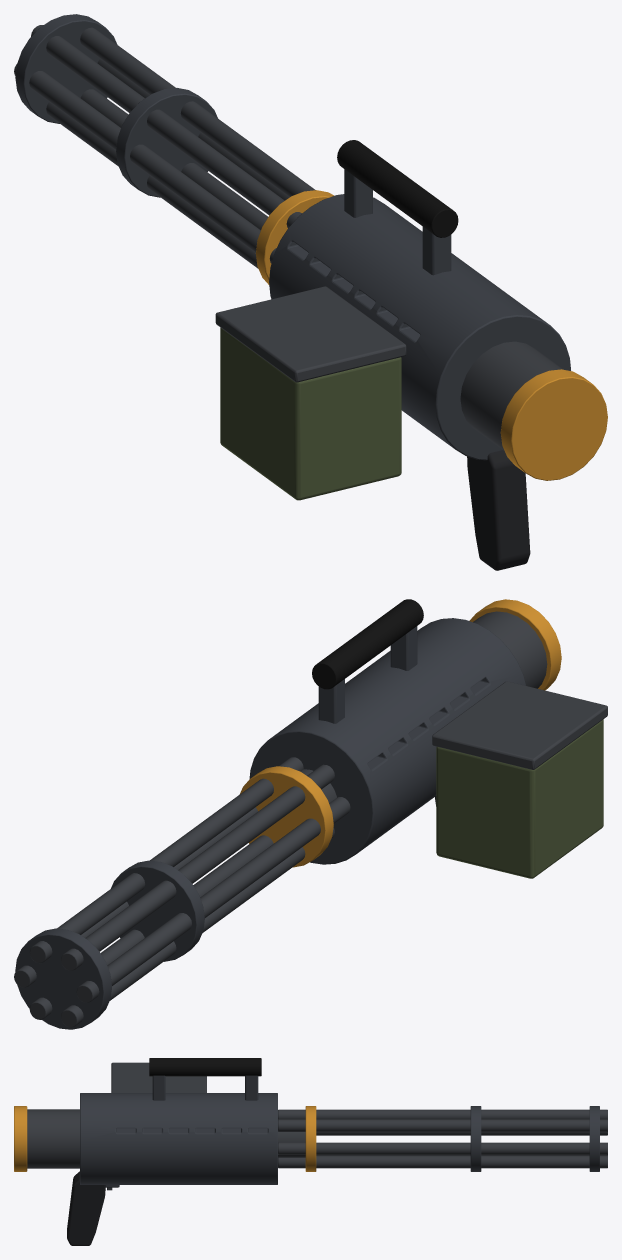
Rendered from buzzsaw.glb.
The picture shows the model from 3 angles, top to bottom: view 1: azimuth 30°, elevation 25°; view 2: azimuth 150°, elevation 25°; view 3: azimuth 270°, elevation 25°; orthographic projection. The views are drawn at different scales.
Visible parts, largest first — view 1: housing, ammo_box, ammo_lid, motor_cap, grip, barrel2, barrel3, barrel1, motor, handle, clamp1, clamp2 (+6 smaller); view 2: housing, ammo_box, ammo_lid, barrel2, barrel3, clamp2, barrel1, handle, clamp0, clamp1, barrel4, motor (+5 smaller); view 3: housing, barrel5, barrel0, barrel1, barrel2, motor, handle, grip, ammo_lid, barrel3, motor_cap, clamp0 (+6 smaller).
Boxes of the visible parts, box(x1,y1,x2,y2) form: housing: box(269, 194, 570, 460); ammo_box: box(220, 327, 401, 500); ammo_lid: box(215, 286, 406, 382); motor_cap: box(500, 369, 607, 480); grip: box(467, 450, 530, 570); barrel2: box(31, 25, 301, 227); barrel3: box(14, 64, 276, 263); barrel1: box(80, 27, 315, 197); motor: box(460, 341, 562, 450); handle: box(337, 140, 458, 237); clamp1: box(116, 88, 217, 197); clamp2: box(15, 14, 117, 123); housing: box(249, 618, 526, 864); ammo_box: box(436, 719, 603, 878); ammo_lid: box(432, 681, 607, 769); barrel2: box(61, 764, 334, 970); barrel3: box(76, 797, 350, 1002); clamp2: box(15, 928, 111, 1029); barrel1: box(29, 757, 303, 963); handle: box(312, 599, 423, 689); clamp0: box(239, 766, 333, 867); clamp1: box(111, 860, 204, 961); barrel4: box(61, 828, 334, 1027); motor: box(473, 611, 547, 688); housing: box(80, 1093, 277, 1184); barrel5: box(278, 1155, 607, 1168); barrel0: box(278, 1142, 607, 1154); barrel1: box(278, 1119, 607, 1131); barrel2: box(278, 1109, 607, 1119); motor: box(27, 1109, 79, 1168); handle: box(149, 1058, 261, 1076); grip: box(67, 1171, 105, 1245); ammo_lid: box(111, 1062, 206, 1092); barrel3: box(316, 1132, 607, 1135); motor_cap: box(14, 1106, 27, 1171); clamp0: box(305, 1106, 316, 1171).
Bounding box in the file's own units: 0.2575 × 0.306 × 0.9.
